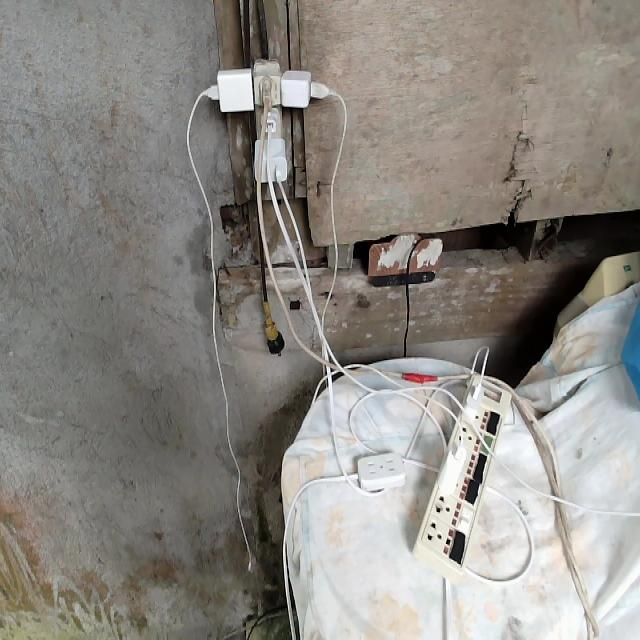-: (203, 59, 345, 200)
